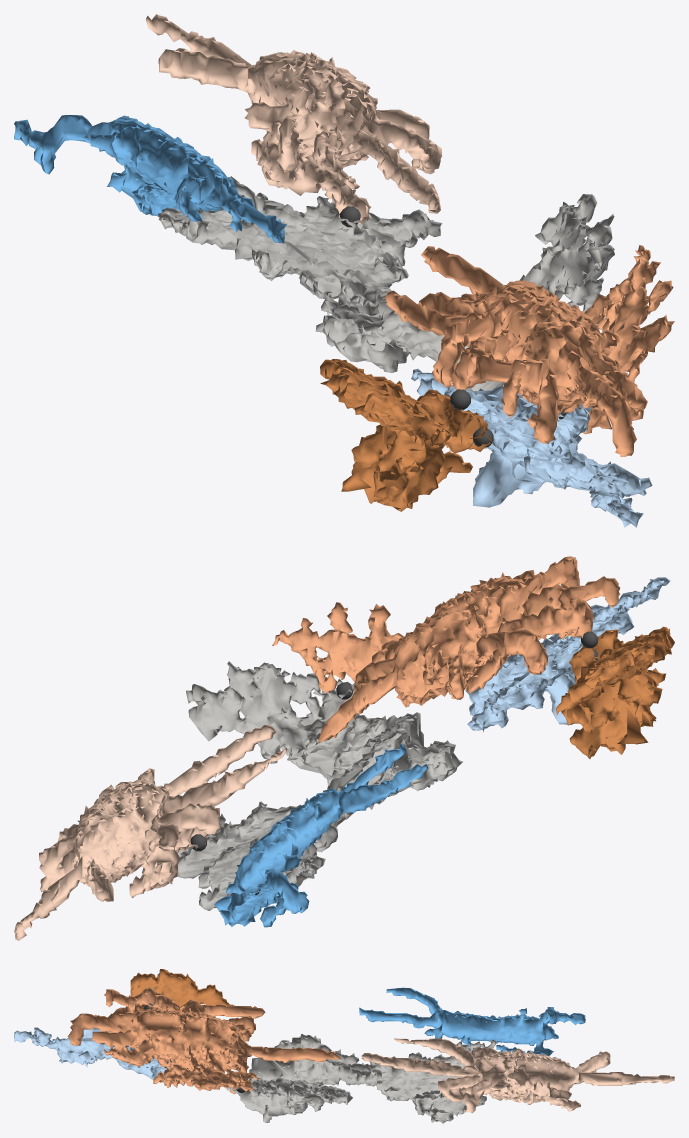
File: sample_1_1_group_2.glb
3 views of the same model, one above another, from view 1: azimuth 30°, elevation 25°; view 2: azimuth 150°, elevation 25°; view 3: azimuth 270°, elevation 25° (orthographic). The views are drawn at different scales.
Parts seen in each view (by area): view 1: osteocyte_37_round, osteocyte_3_untyped, osteocyte_27_round, osteocyte_228_round, osteocyte_29_elongated, osteocyte_19_elongated; view 2: osteocyte_37_round, osteocyte_3_untyped, osteocyte_27_round, osteocyte_29_elongated, osteocyte_228_round, osteocyte_19_elongated; view 3: osteocyte_37_round, osteocyte_3_untyped, osteocyte_27_round, osteocyte_29_elongated, osteocyte_19_elongated, osteocyte_228_round.
Part boxes in pixels (<box>): osteocyte_37_round: <box>385,245,674,456</box>; osteocyte_3_untyped: <box>158,176,614,391</box>; osteocyte_27_round: <box>146,14,441,224</box>; osteocyte_228_round: <box>320,359,491,511</box>; osteocyte_29_elongated: <box>14,115,286,243</box>; osteocyte_19_elongated: <box>411,368,652,527</box>; osteocyte_37_round: <box>272,556,620,743</box>; osteocyte_3_untyped: <box>177,661,462,910</box>; osteocyte_27_round: <box>14,725,287,940</box>; osteocyte_29_elongated: <box>214,743,428,927</box>; osteocyte_228_round: <box>556,626,674,758</box>; osteocyte_19_elongated: <box>465,577,670,731</box>; osteocyte_37_round: <box>67,987,341,1094</box>; osteocyte_3_untyped: <box>226,1034,496,1123</box>; osteocyte_27_round: <box>361,1038,674,1113</box>; osteocyte_29_elongated: <box>359,987,585,1055</box>; osteocyte_19_elongated: <box>14,1027,166,1079</box>; osteocyte_228_round: <box>126,969,233,1011</box>.
Bounding box in the file's own units: 53.83 × 19.84 × 142.
